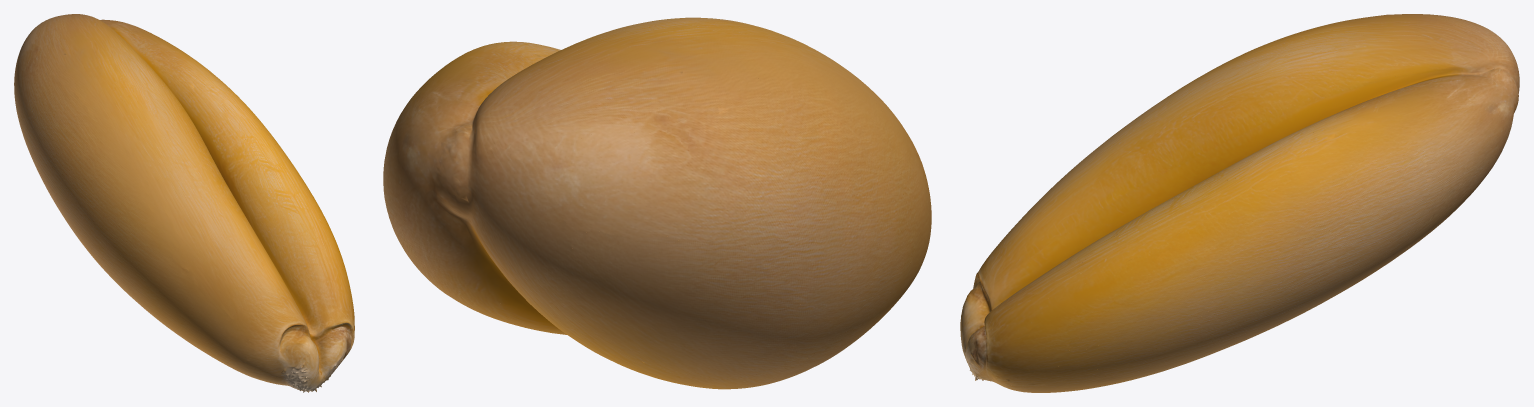
File: ResultSeedOptimized.glb
The picture shows the model from 3 angles, left to right: view 1: azimuth 30°, elevation 25°; view 2: azimuth 150°, elevation 25°; view 3: azimuth 270°, elevation 25°; orthographic projection. The views are drawn at different scales.
Visible parts, largest first — view 1: node_0; view 2: node_0; view 3: node_0.
Part boxes in pixels (x1,y1,x2,y2): node_0: (14, 14, 354, 392); node_0: (383, 17, 931, 389); node_0: (960, 14, 1519, 392).
Size of the model in its own units: 0.5755 by 0.6641 by 1.05.
Materials: 1 (1 with a texture image).
